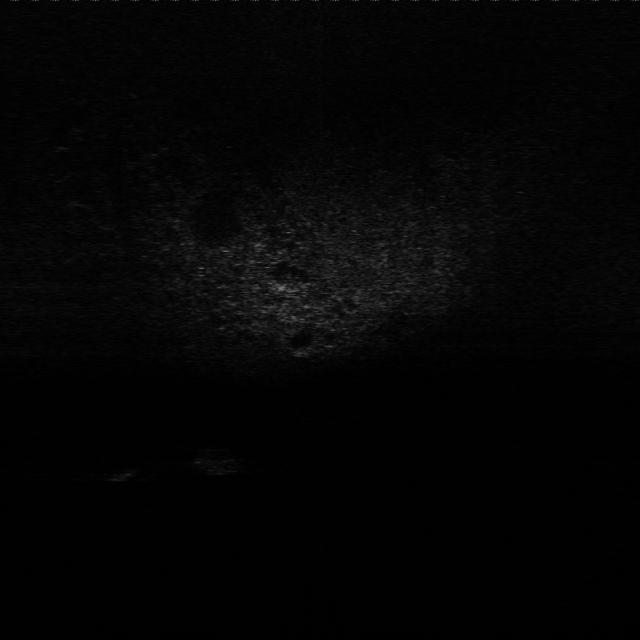circle cage: (193, 452, 249, 481)
cylinder: (99, 465, 142, 488)
